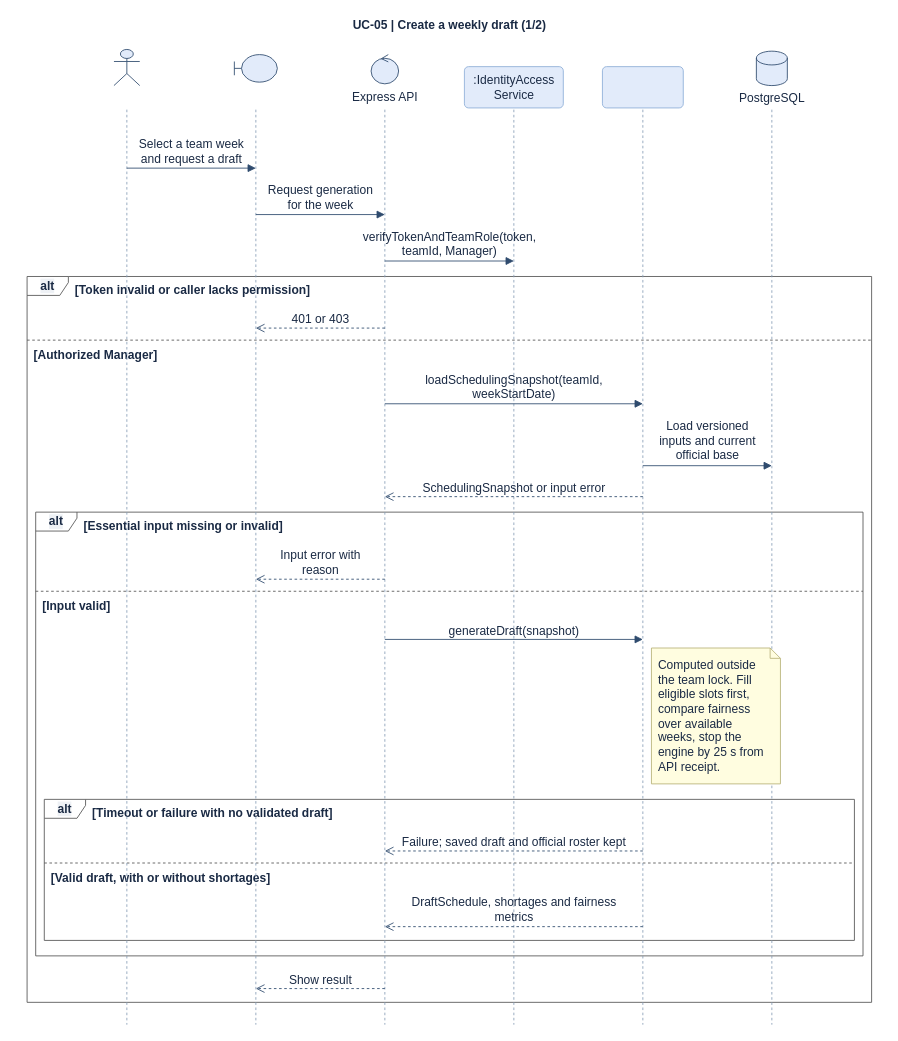
Some shapes in this 898 by 1041 pixel diagram are drawn without their labels. The centre of each missing label's shape, as x and y in pixels:
":Scheduling Service" goes at [642,87].
"Manager" goes at [126,67].
"Weekly Scheduling S-04" goes at [255,68].
